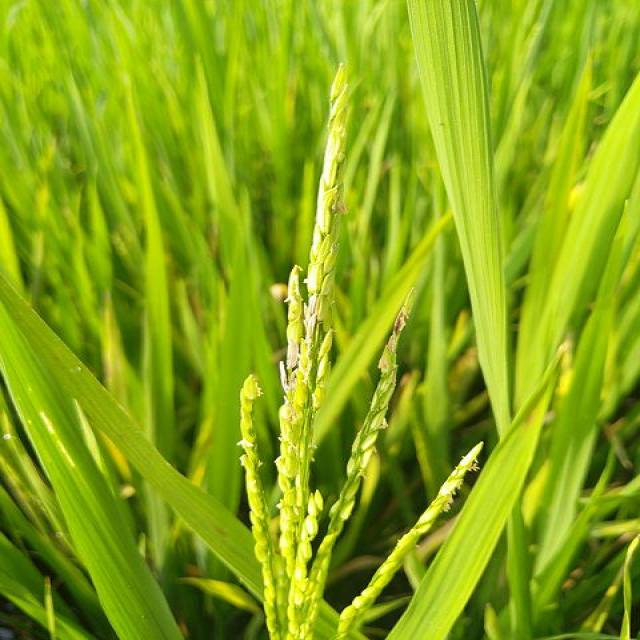Leaf Streak: (40, 412, 79, 472)
Panicle Blight: (277, 67, 345, 403), (379, 288, 413, 370)
